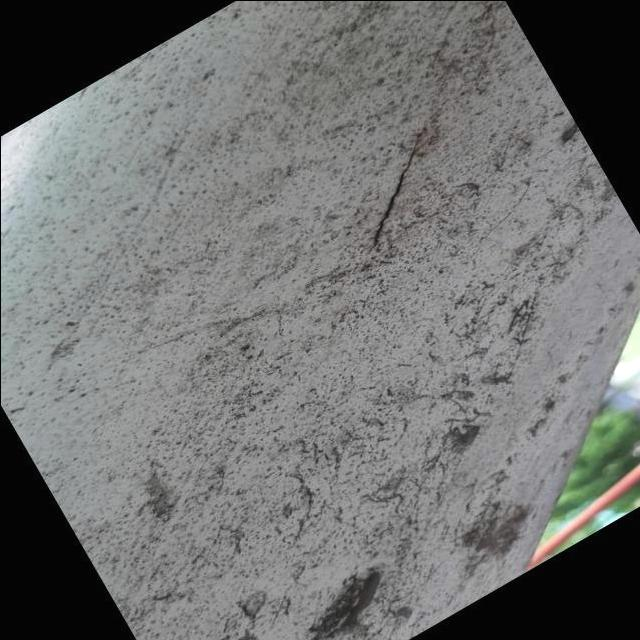defect: (359, 130, 420, 260)
